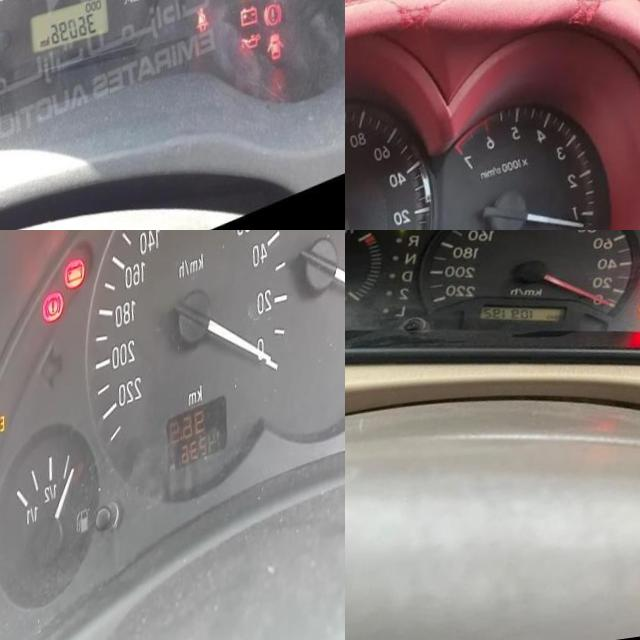Seat Belt: (202, 21, 216, 46)
